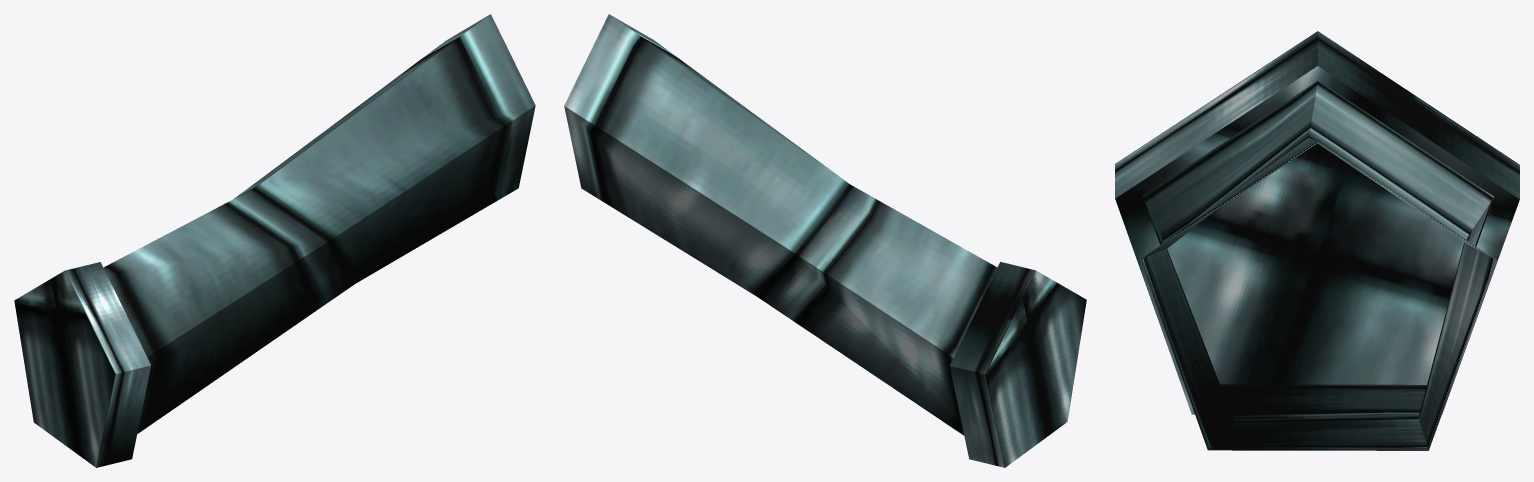
The model's file is Rohr_StückSchräg_1442.glb.
3 views of the same model, side by side, from view 1: azimuth 30°, elevation 25°; view 2: azimuth 150°, elevation 25°; view 3: azimuth 270°, elevation 25° (orthographic). The views are drawn at different scales.
Visible parts, largest first — view 1: pCylinderShape75, pCylinderShape76; view 2: pCylinderShape75, pCylinderShape76; view 3: pCylinderShape76, pCylinderShape75.
Part boxes in pixels (x1,y1,x2,y2): pCylinderShape75: [103, 14, 535, 433]; pCylinderShape76: [14, 262, 151, 467]; pCylinderShape75: [564, 14, 997, 435]; pCylinderShape76: [949, 262, 1086, 467]; pCylinderShape76: [1115, 31, 1519, 414]; pCylinderShape75: [1140, 80, 1497, 450].
Size of the model in its own units: 1.04 by 0.7654 by 0.4294.
2 materials, 2 textured.
